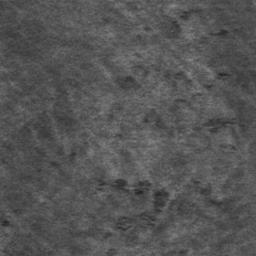Rolled in scale: (0, 0, 250, 256), (0, 209, 52, 256), (7, 34, 32, 57)
